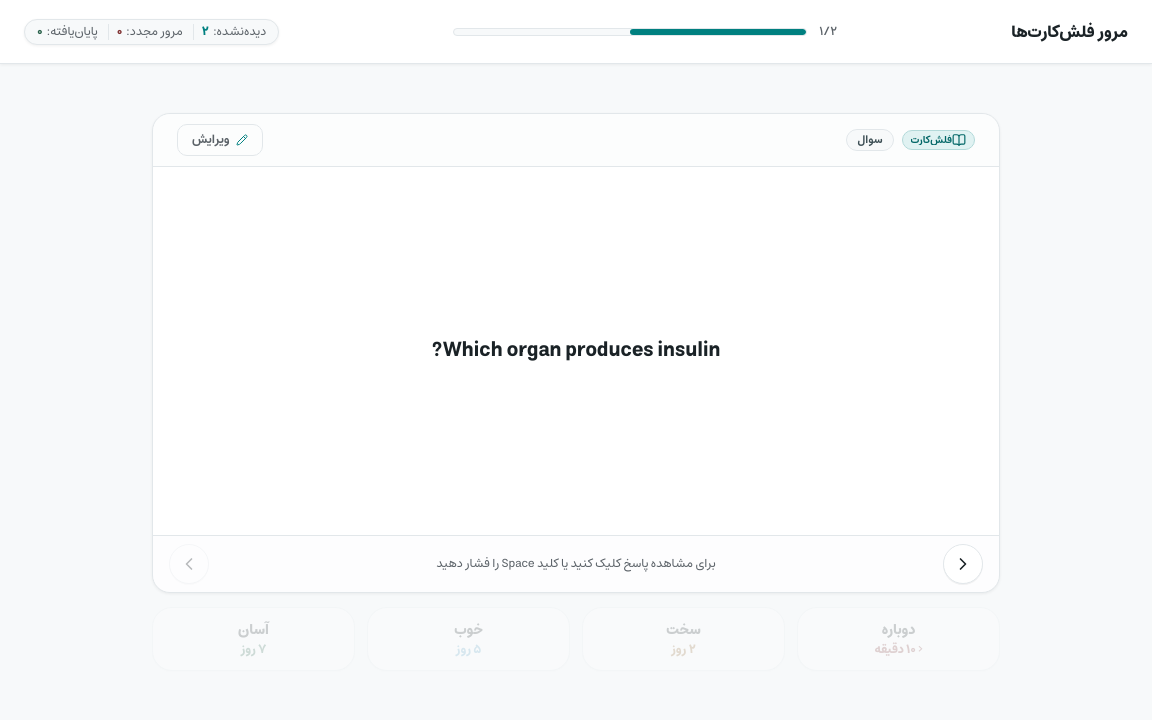
Test case: PR6-9C UX Hardening: Flashcards › shows error recovery warning banner if rating submission fails
Check: the text "Which organ produces insulin?" is shown, box [432,333,720,368]
Note: Flip card
Click the button with aria-label "سوال فلش‌کارت" at (576, 353), box [152,113,1000,593]
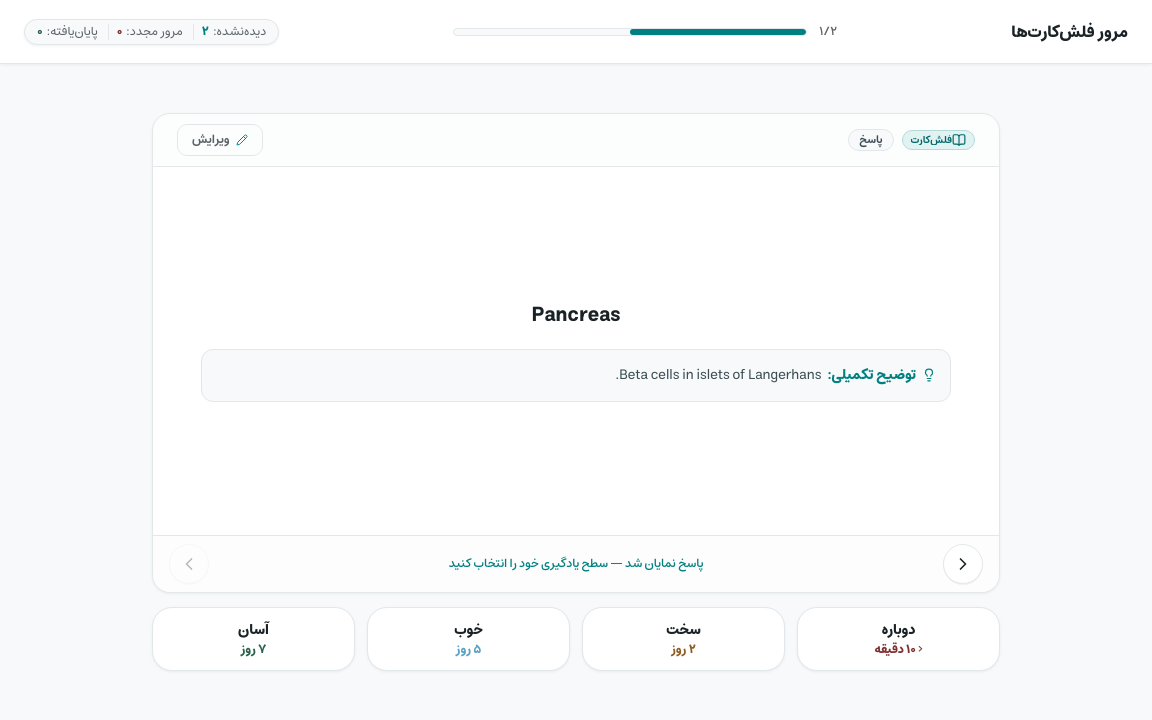
Check: the text "Pancreas" is shown, box [532,298,620,333]
Note: Click rating "Good"
Click the button "خوب ۵ روز" at (468, 639), box [367,607,570,671]
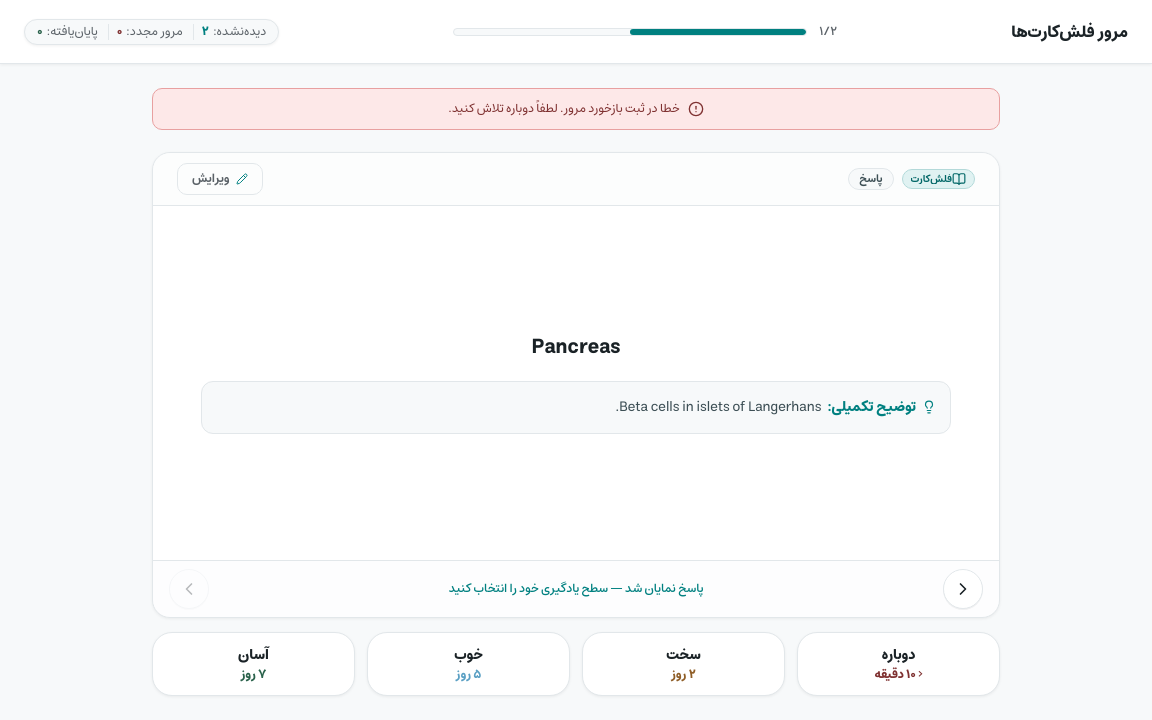
Check: the text "خطا در ثبت بازخورد مرور. لطفاً دوباره تلاش کنید." is shown, box [448,101,680,117]
